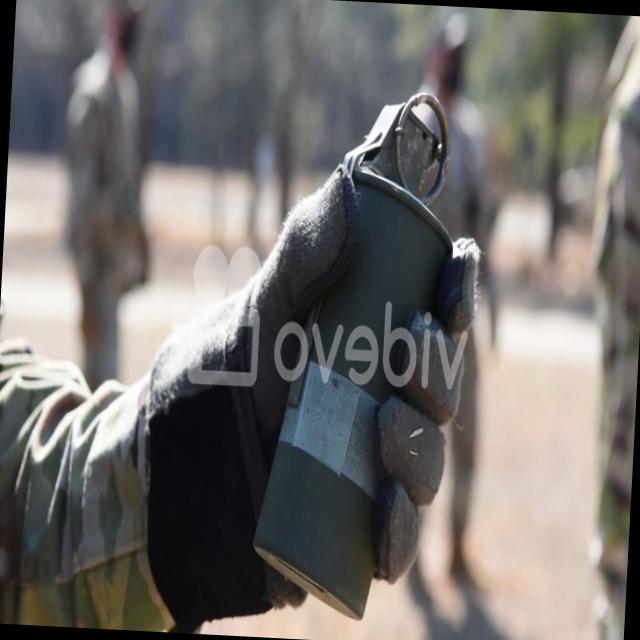grenade: (250, 70, 471, 622)
